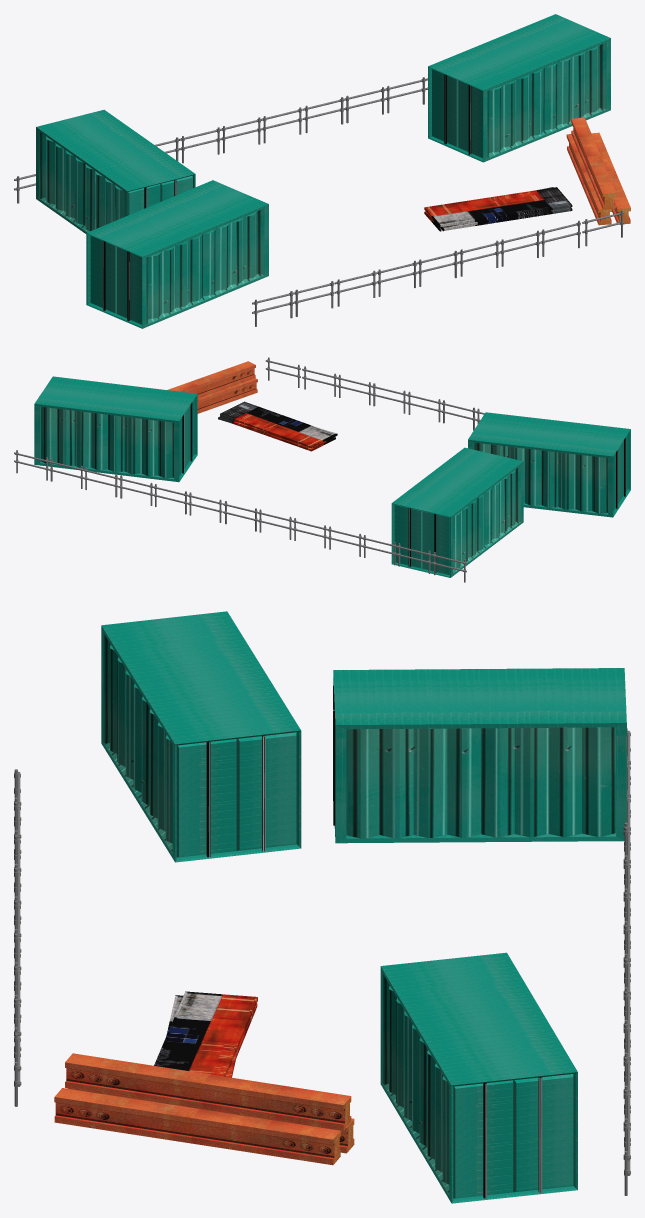
File: aaaaaa.obj
3 renders of one model, top to bottom at view 1: azimuth 30°, elevation 25°; view 2: azimuth 150°, elevation 25°; view 3: azimuth 270°, elevation 25°, orthographic. The views are drawn at different scales.
Bounding box in the file's own units: 43.26 × 5.04 × 23.79.
4 materials, 3 textured.
